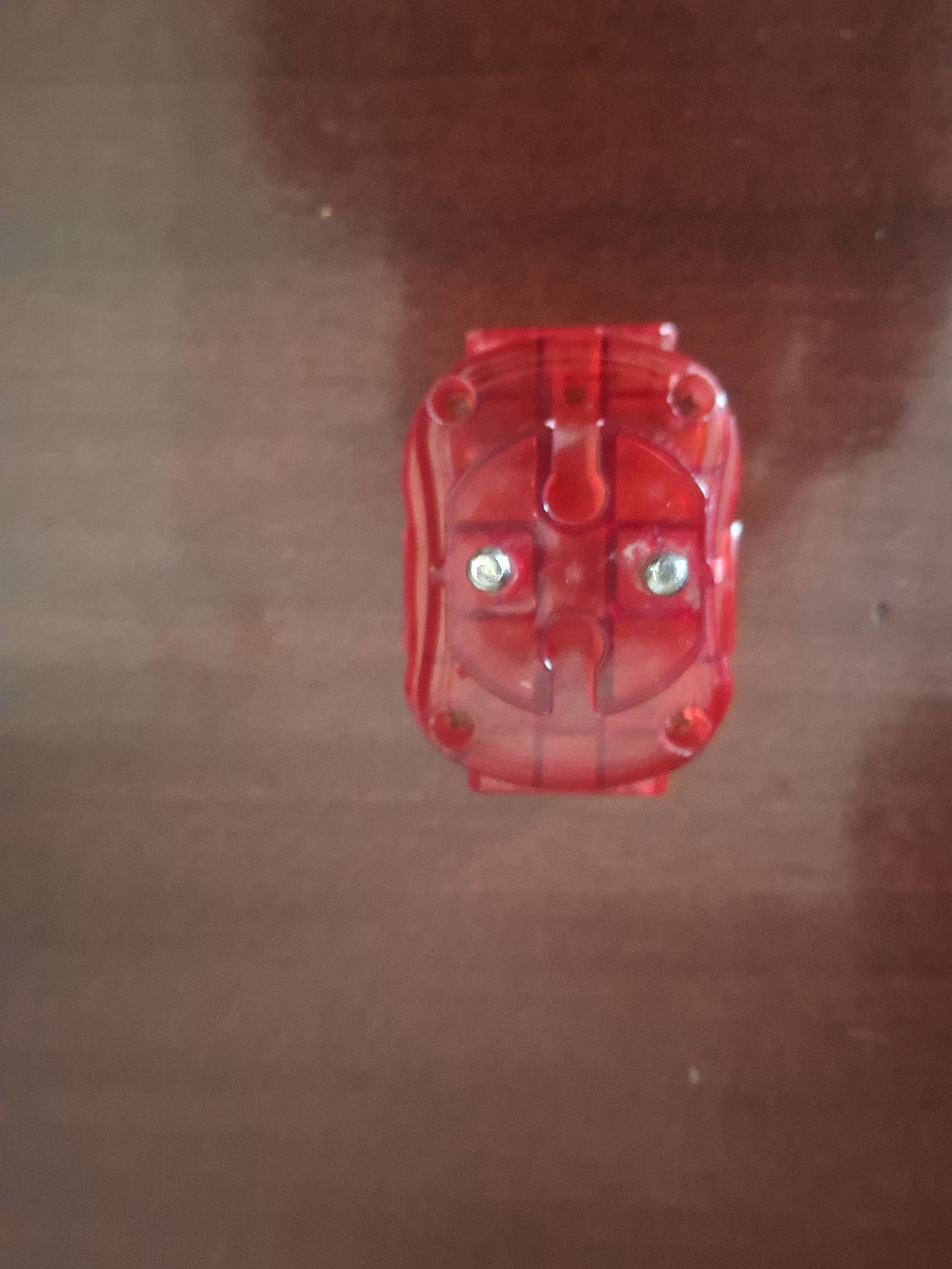Multi_adapter: (396, 304, 751, 827)
